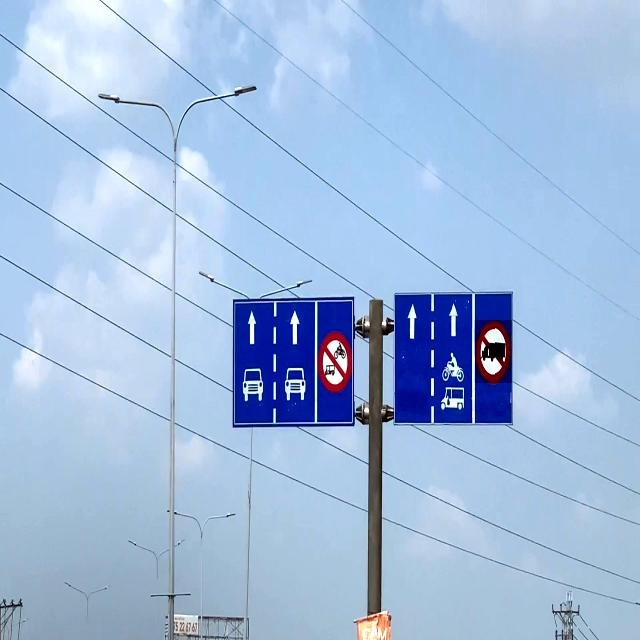bien_hieu_lenh: (474, 320, 512, 383)
